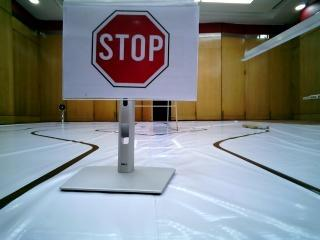stop: (74, 9, 187, 88)
